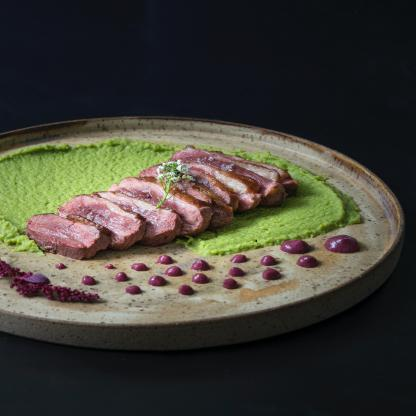Carne: (165, 148, 287, 202), (104, 181, 228, 232), (132, 162, 258, 205), (56, 192, 154, 247), (92, 193, 195, 244), (21, 210, 104, 260)
